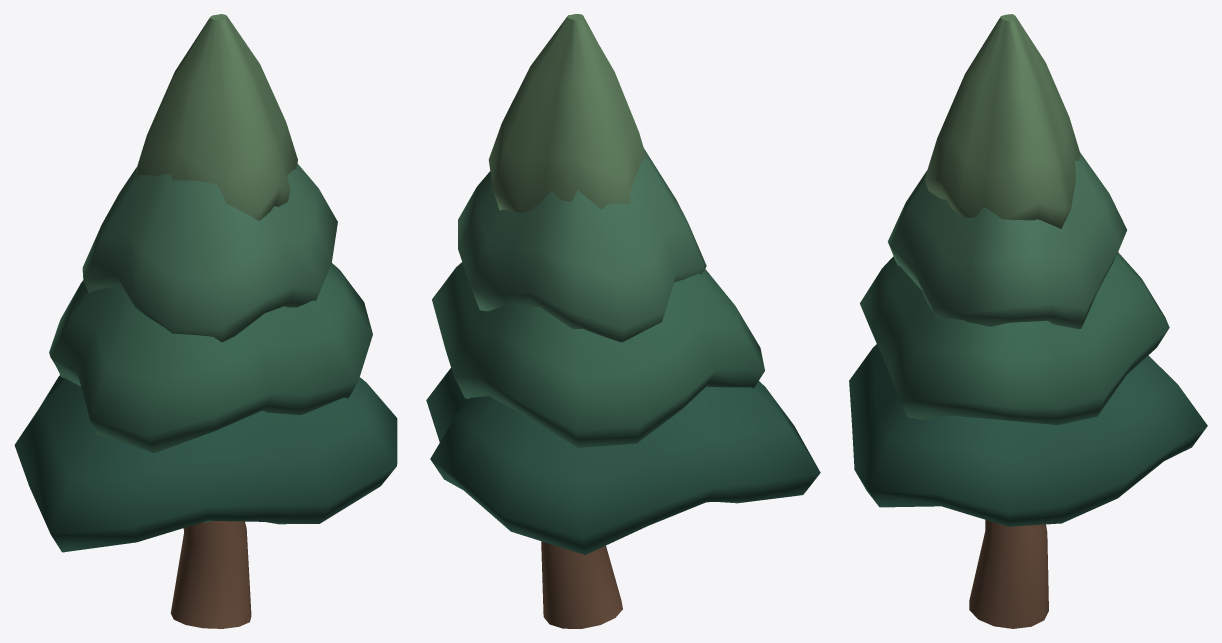
Rendered from pine.glb.
The picture shows the model from 3 angles, left to right: view 1: azimuth 30°, elevation 25°; view 2: azimuth 150°, elevation 25°; view 3: azimuth 270°, elevation 25°; orthographic projection.
Visible parts, largest first — view 1: Pine; view 2: Pine; view 3: Pine.
Boxes of the visible parts, left/top/right/bottom form: Pine: left=14, top=14, right=397, bottom=628; Pine: left=426, top=14, right=820, bottom=628; Pine: left=849, top=14, right=1207, bottom=628.
Bounding box in the file's own units: 2.27 × 3.65 × 1.98.
